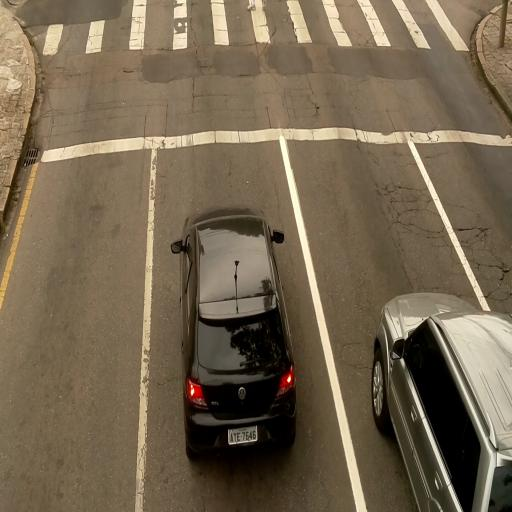car: (174, 207, 299, 458), (370, 294, 510, 510)
